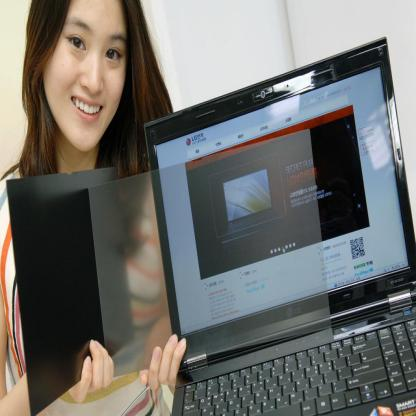board: (143, 35, 416, 416)
